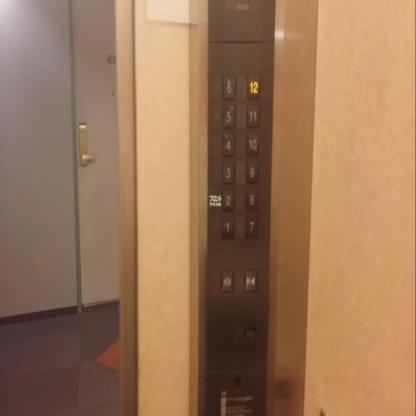1: (220, 213, 235, 240)
10: (244, 130, 260, 156)
11: (245, 102, 260, 129)
12: (246, 73, 261, 100)
2: (220, 186, 235, 212)
3: (221, 158, 236, 184)
4: (221, 130, 236, 158)
5: (221, 102, 236, 129)
6: (222, 72, 236, 102)
7: (244, 212, 258, 240)
8: (244, 184, 259, 211)
9: (244, 158, 259, 185)
close: (242, 266, 258, 294)
open: (220, 266, 234, 294)
